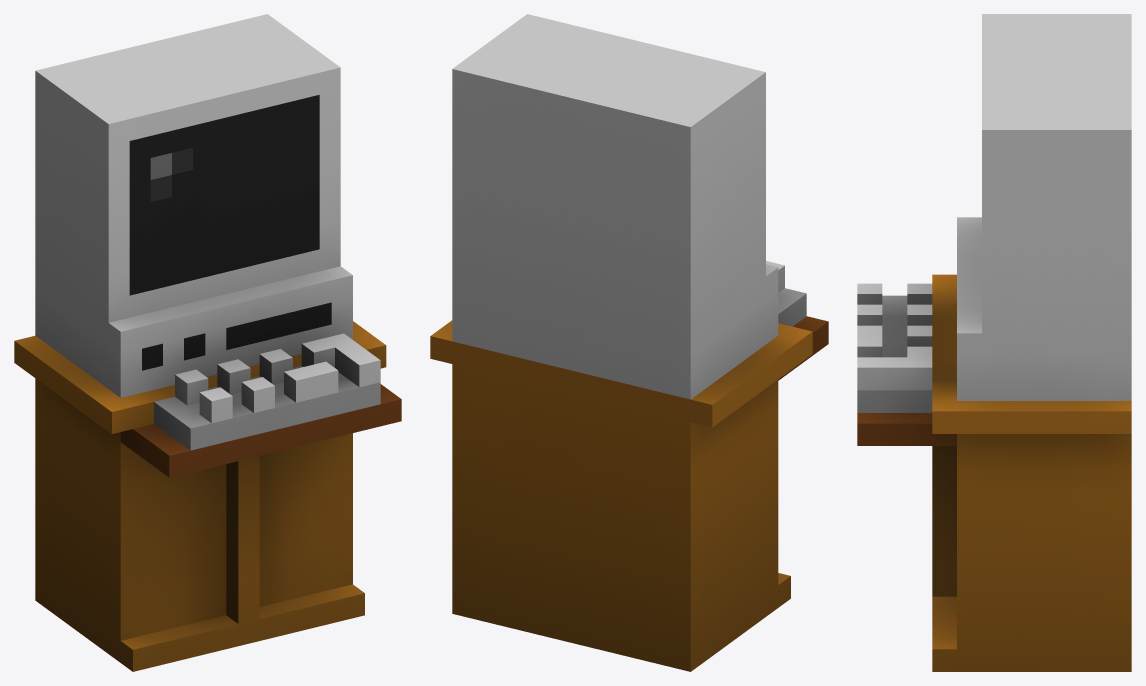
The model's file is computer.dae.
3 renders of one model, left to right at view 1: azimuth 30°, elevation 25°; view 2: azimuth 150°, elevation 25°; view 3: azimuth 270°, elevation 25°, orthographic. The views are drawn at different scales.
Parts seen in each view (by area): view 1: node; view 2: node; view 3: node.
Part boxes in pixels (x1=…): node: x1=14, y1=14, x2=401, y2=671; node: x1=430, y1=14, x2=828, y2=671; node: x1=857, y1=14, x2=1131, y2=671.
Size of the model in its own units: 10.4 by 19.2 by 8.8.
